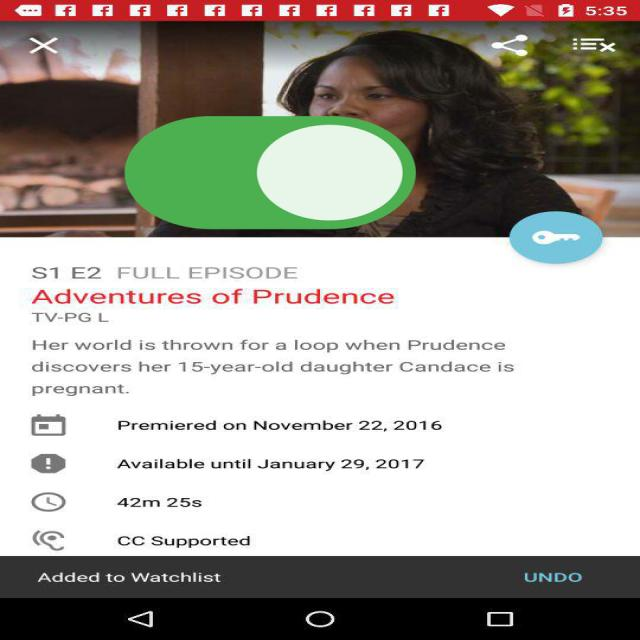social proof: (111, 73, 429, 281)
